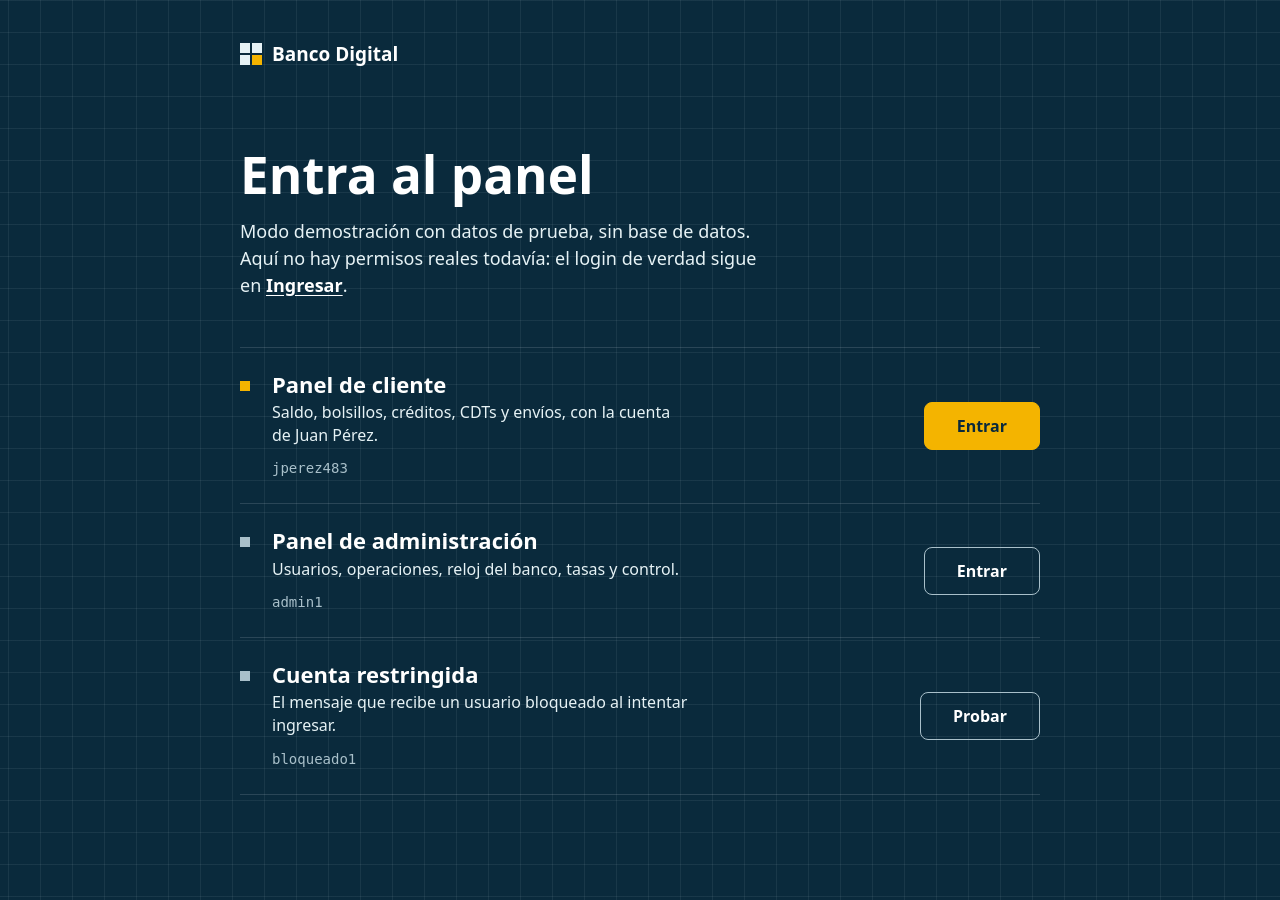
Demo › la cuenta restringida muestra el mensaje del servidor y no navega
Click the button "Probar".
click(980, 716)  # box x1=920 y1=692 x2=1040 y2=740
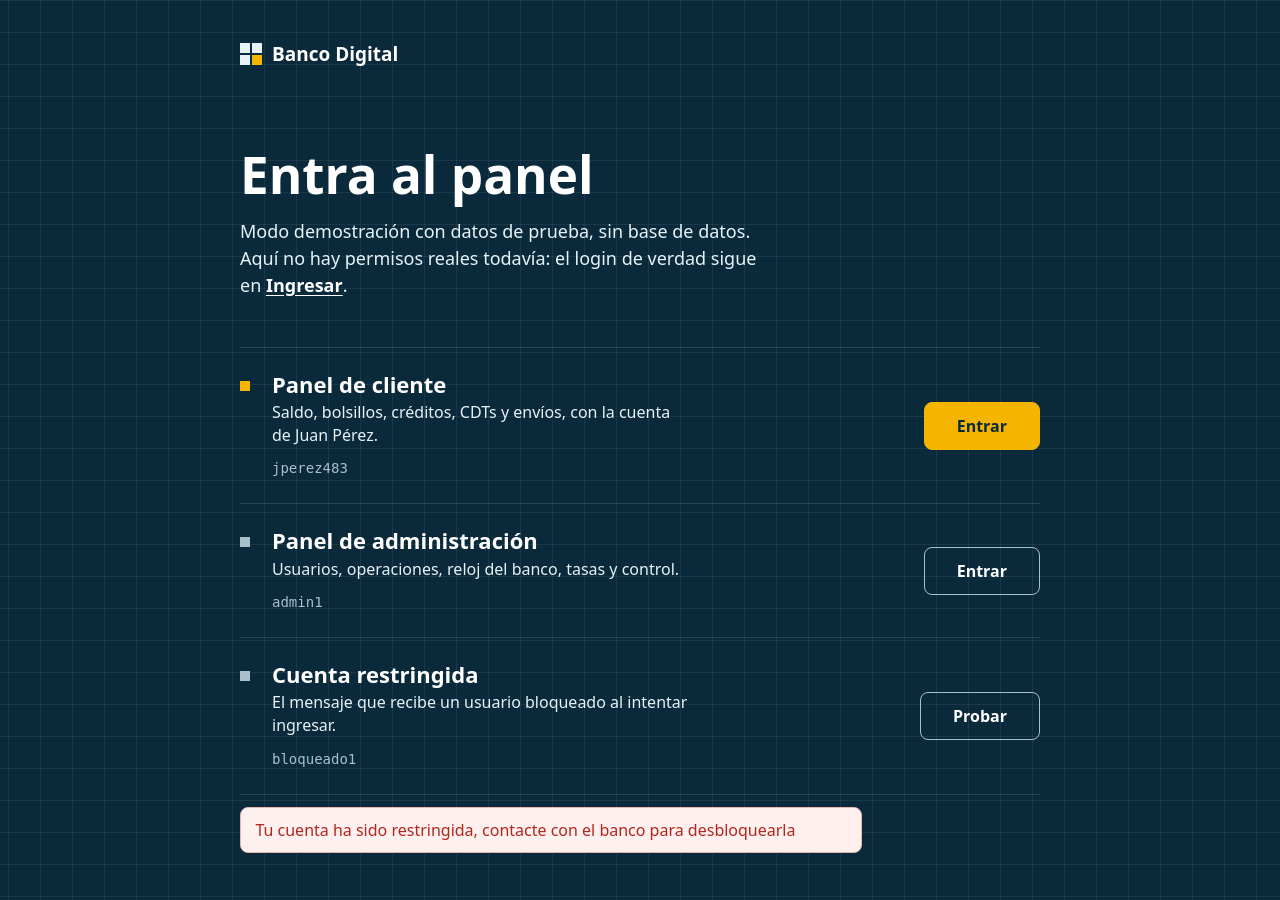
Result: the message shows "restringida" at x1=255 y1=819 x2=796 y2=841
